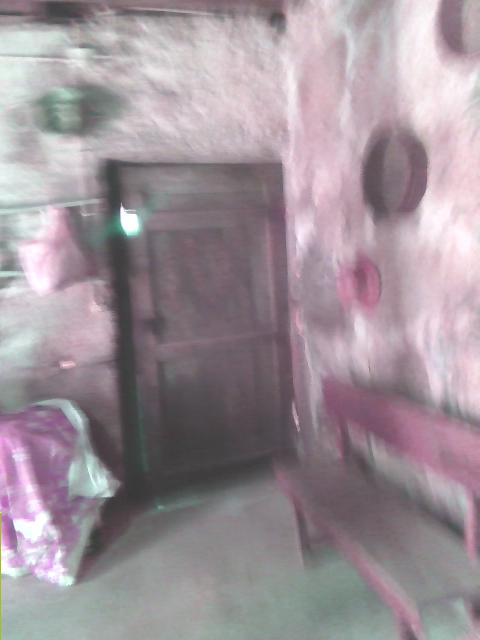closed_door: (94, 154, 292, 486)
